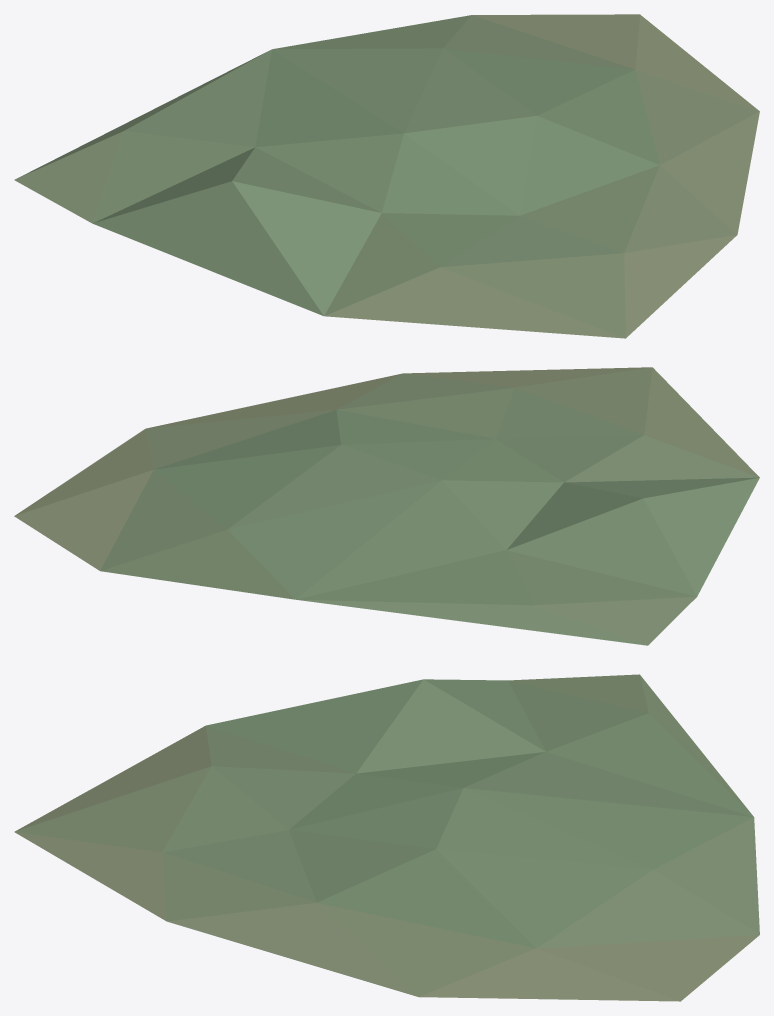
The model's file is kit_wet_c.glb.
3 renders of one model, top to bottom at view 1: azimuth 30°, elevation 25°; view 2: azimuth 150°, elevation 25°; view 3: azimuth 270°, elevation 25°, orthographic. The views are drawn at different scales.
Visible parts, largest first — view 1: kit_wet_c; view 2: kit_wet_c; view 3: kit_wet_c.
Part boxes in pixels (left/top/right/bottom): kit_wet_c: left=14, top=14, right=759, bottom=338; kit_wet_c: left=14, top=367, right=759, bottom=645; kit_wet_c: left=14, top=674, right=759, bottom=1001.
Size of the model in its own units: 34.32 by 2.87 by 33.79.
